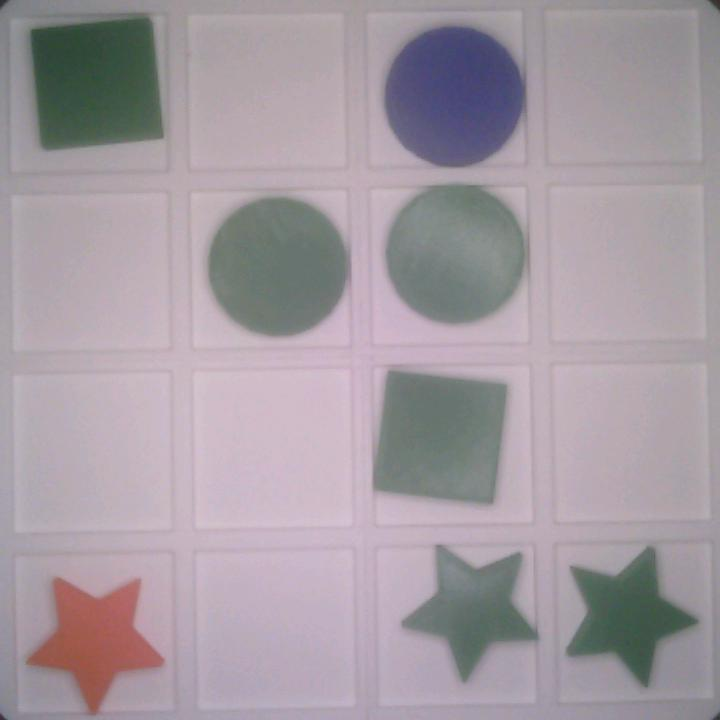Blue circle: (383, 23, 522, 164)
Green circle: (385, 188, 530, 329), (206, 197, 346, 336)
Green square: (25, 15, 169, 152), (378, 367, 511, 506)
Green star: (557, 543, 706, 686), (400, 540, 539, 684)
Orange star: (22, 567, 163, 713)
